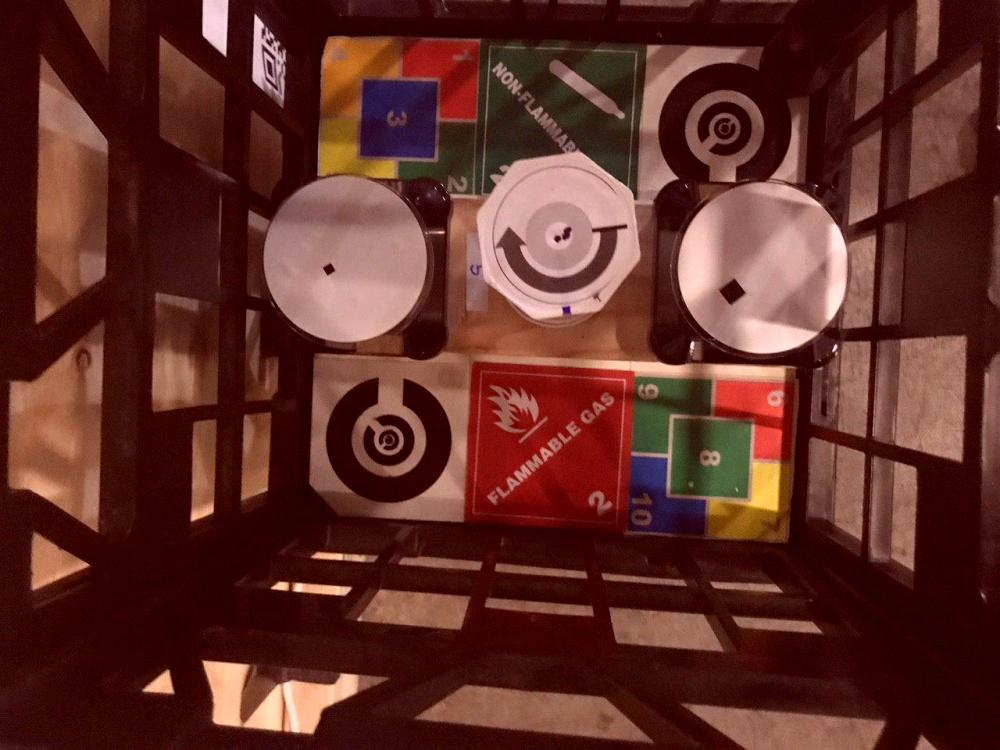flammable: (462, 360, 637, 537), (477, 36, 647, 201)
